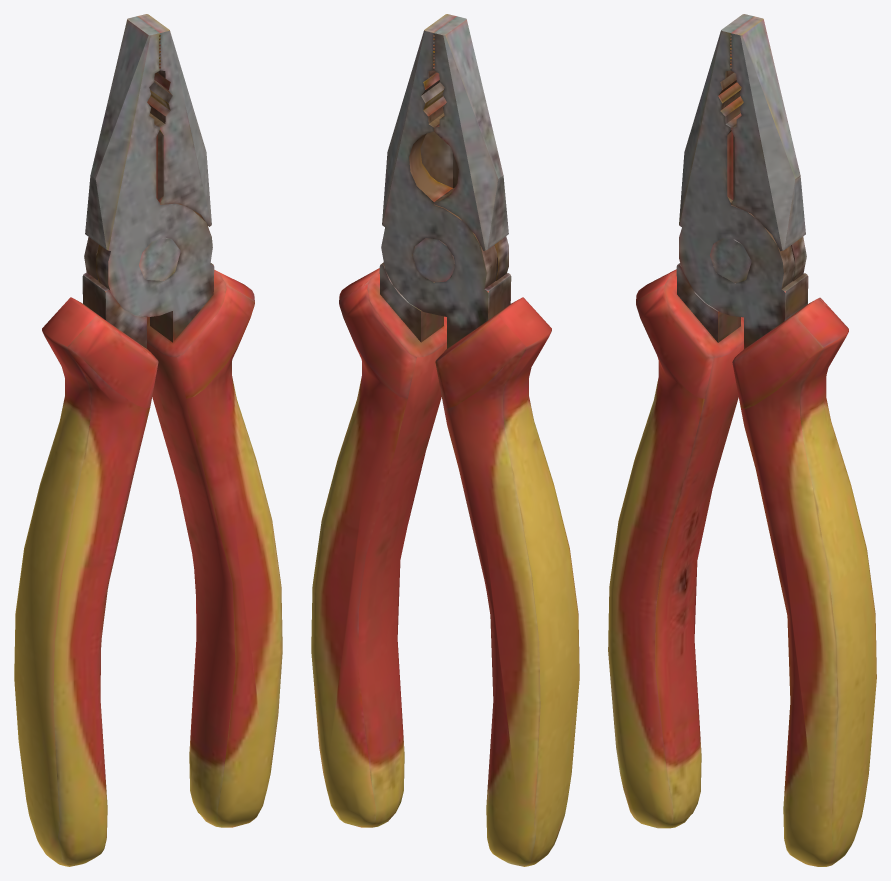
File: pliers.l.dcce8a0d.glb
3 renders of one model, left to right at view 1: azimuth 30°, elevation 25°; view 2: azimuth 150°, elevation 25°; view 3: azimuth 330°, elevation 25°, orthographic.
Parts seen in each view (by area): view 1: pliers_b, pliers_a, pliers_pin; view 2: pliers_a, pliers_b, pliers_pin; view 3: pliers_b, pliers_a, pliers_pin.
Part boxes in pixels (x1=…): pliers_b: x1=85, y1=16, x2=282, y2=827; pliers_a: x1=14, y1=14, x2=211, y2=866; pliers_pin: x1=139, y1=237, x2=180, y2=280; pliers_a: x1=381, y1=14, x2=579, y2=866; pliers_b: x1=311, y1=16, x2=508, y2=827; pliers_pin: x1=413, y1=238, x2=455, y2=282; pliers_b: x1=679, y1=14, x2=876, y2=866; pliers_a: x1=608, y1=16, x2=806, y2=828; pliers_pin: x1=709, y1=238, x2=751, y2=282.
Bounding box in the file's own units: 0.0553 × 0.1797 × 0.0179.
Materials: 1 (1 with a texture image).
